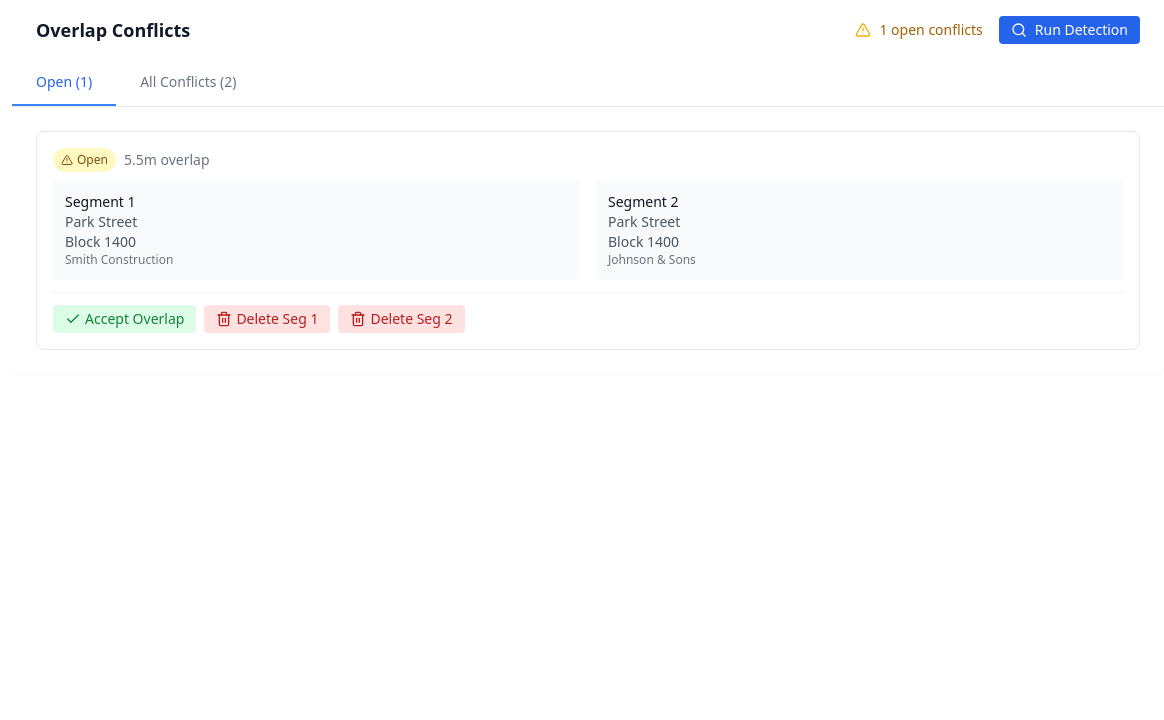
AdminConflictResolution Component › switches between open and all tabs
Expected: the heading "Overlap Conflicts" is shown, [36,16,190,44]
Expected: the button "Open (1)" is shown, [12,60,116,106]
Click All Conflicts tab
Click the button "All Conflicts (2)" at [188, 83], box [116,60,261,106]
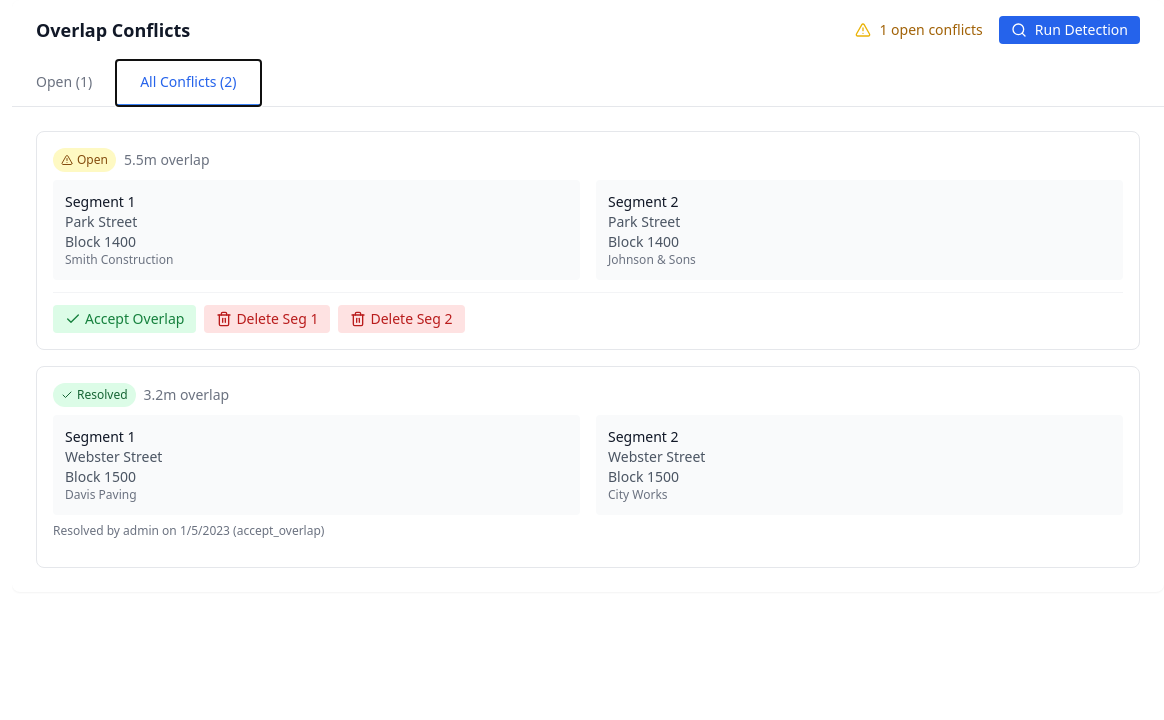
Now the text "Resolved" is shown, box [53,383,136,407]
